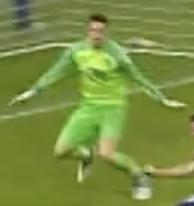goalkeeper: (5, 8, 189, 204)
